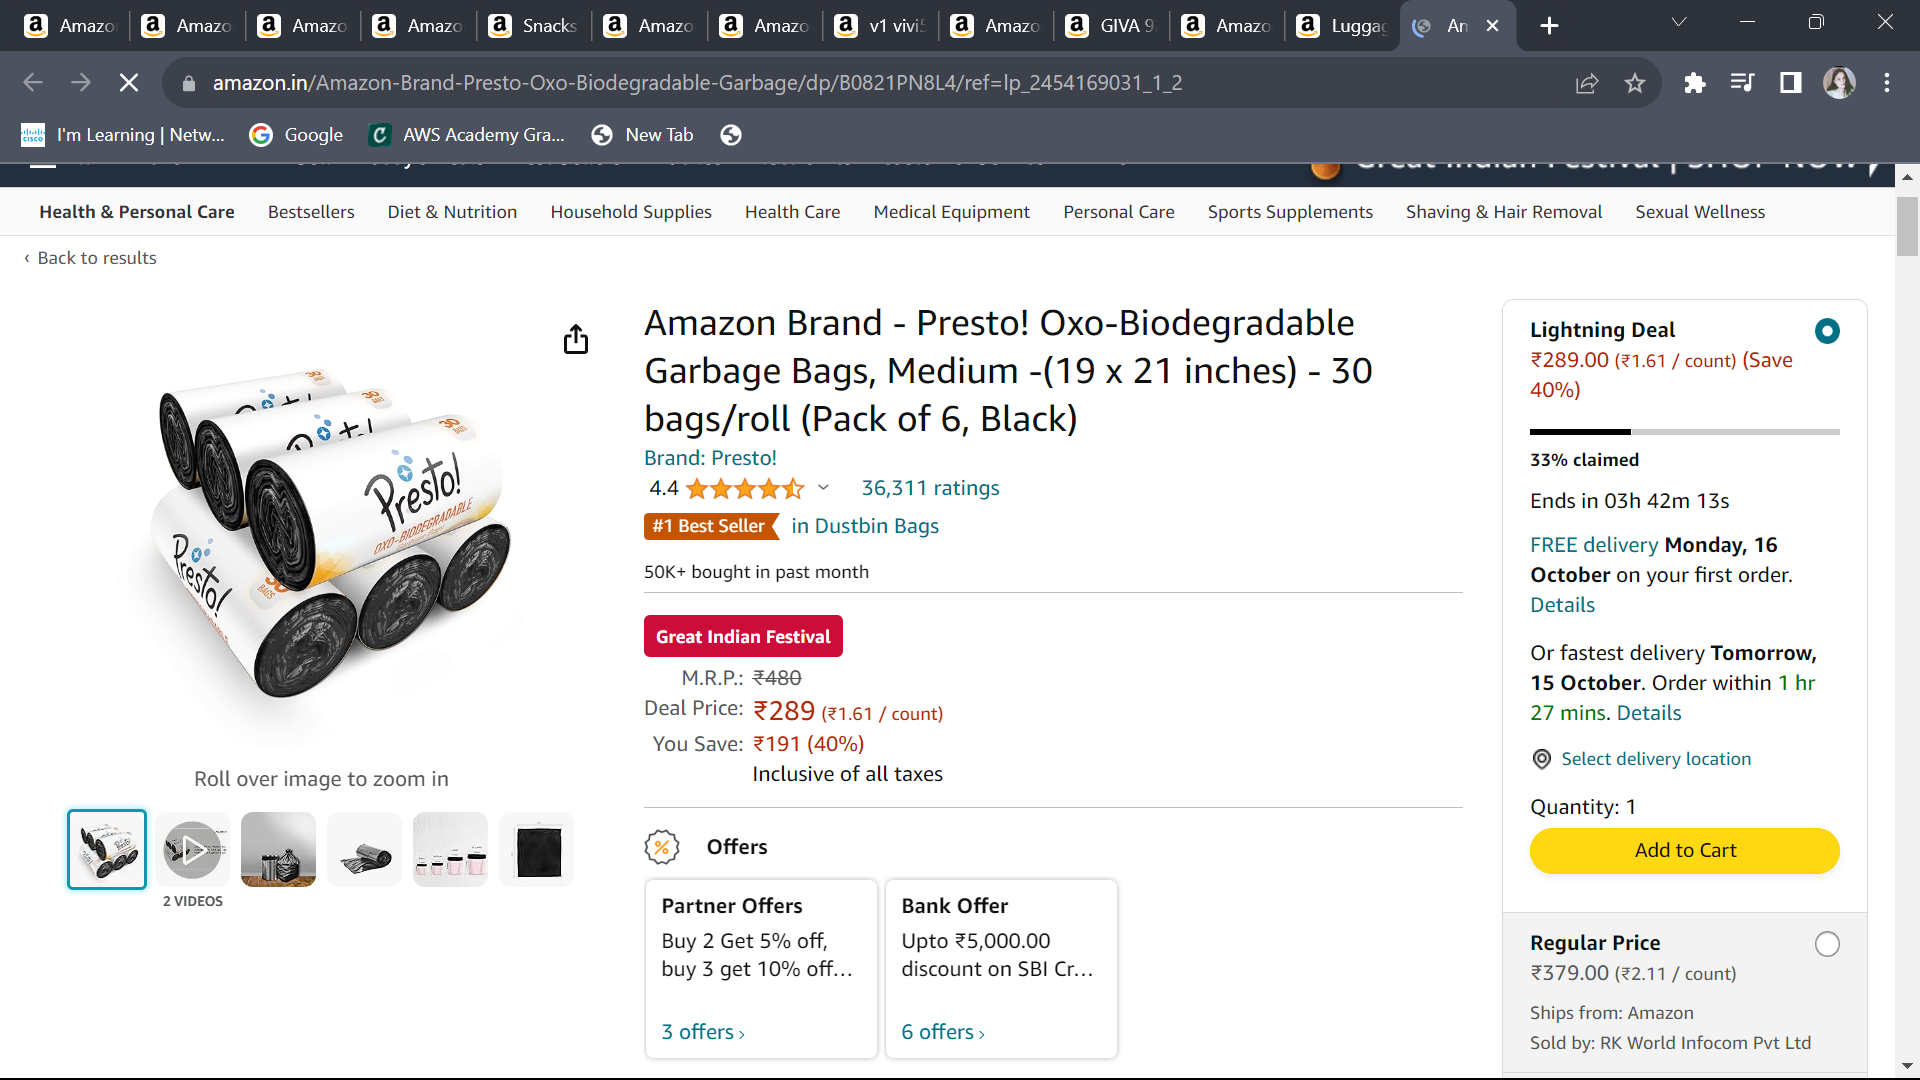Image: (80, 310, 505, 746), (42, 818, 579, 938)
Paragraph: (618, 806, 1131, 1046), (636, 293, 1412, 442), (1523, 529, 1866, 744), (624, 657, 1048, 812), (1505, 914, 1861, 1080), (1509, 307, 1882, 418), (633, 451, 1046, 546), (624, 550, 935, 618), (1511, 829, 1857, 884), (1526, 454, 1771, 520), (144, 765, 498, 806), (1520, 741, 1755, 777), (1526, 791, 1687, 815)
